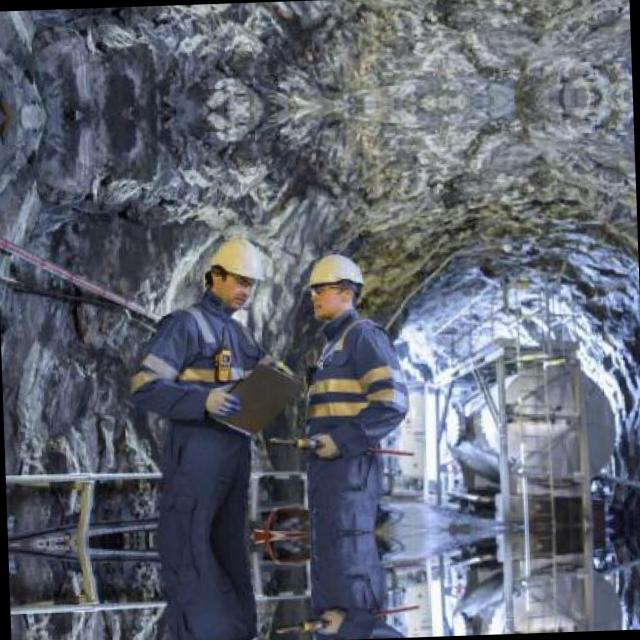helmet: (200, 233, 268, 311), (301, 249, 368, 322)
